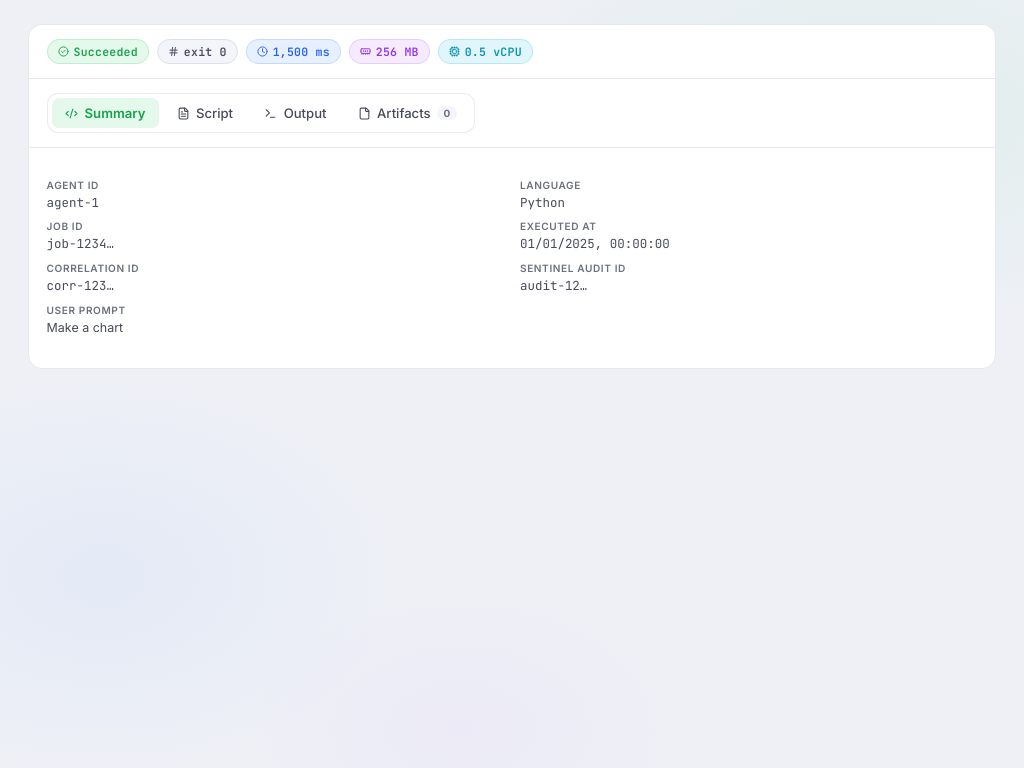
Test: SandboxRunDetail tabs › shows an empty artifacts message when there are none
Click the tab "Artifacts 0". click: (407, 113)
box: x1=344 y1=98 x2=470 y2=128
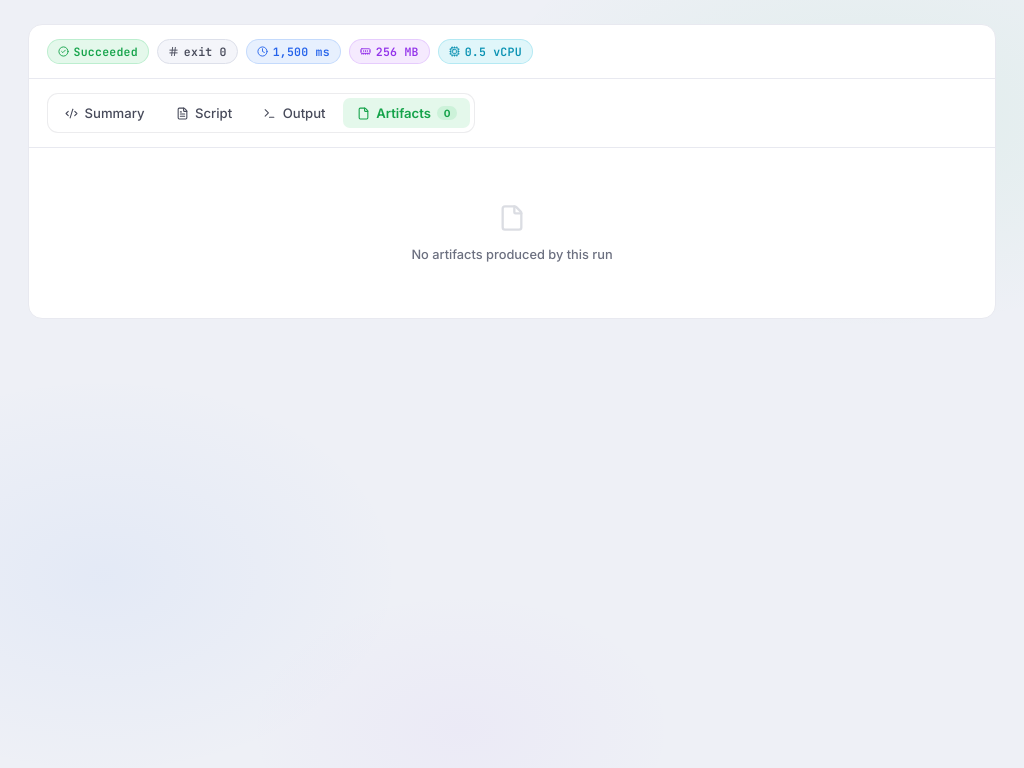
Expected: the text "No artifacts produced by this run" is shown, x1=411 y1=247 x2=613 y2=262
